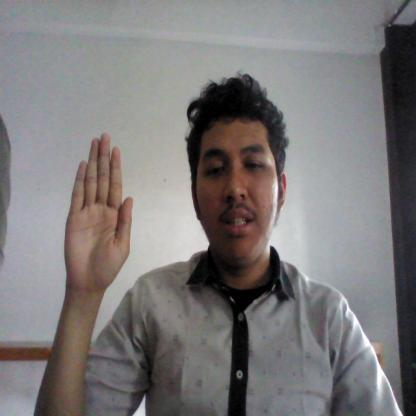Halo: (58, 117, 144, 301)
